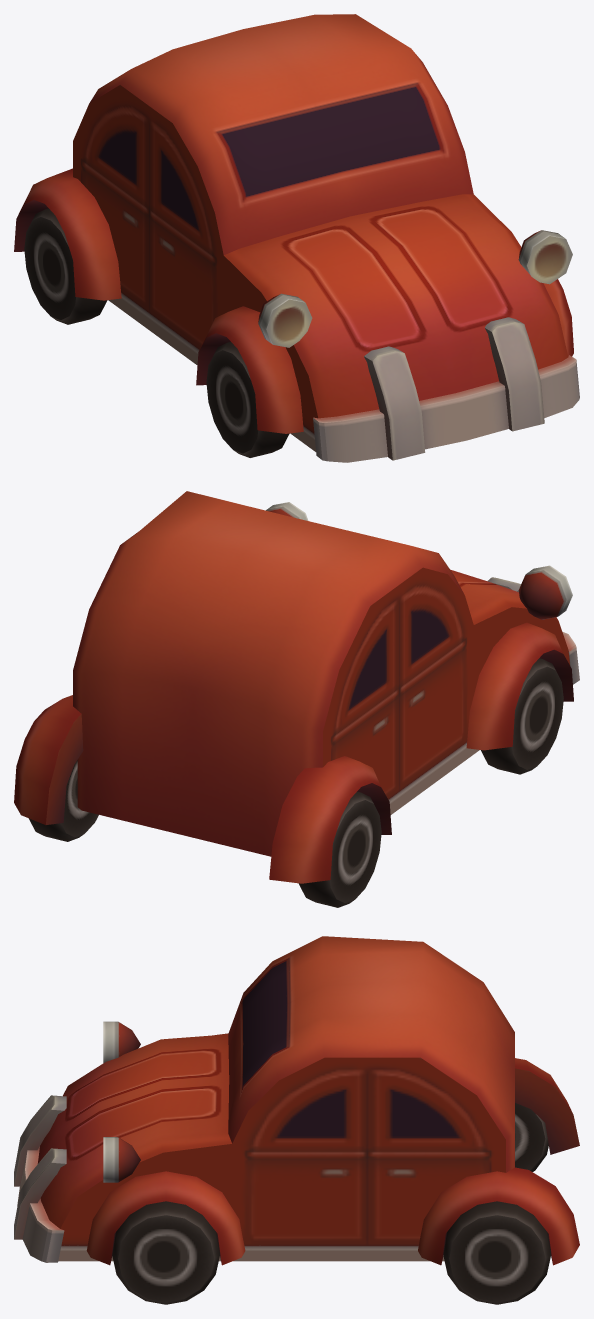
Rendered from scenes_around_toy01b.FBX.
The picture shows the model from 3 angles, top to bottom: view 1: azimuth 30°, elevation 25°; view 2: azimuth 150°, elevation 25°; view 3: azimuth 270°, elevation 25°; orthographic projection. The views are drawn at different scales.
Parts seen in each view (by area): view 1: scenes_around_toy01b; view 2: scenes_around_toy01b; view 3: scenes_around_toy01b.
Boxes of the visible parts, left/top/right/bottom form: scenes_around_toy01b: left=14, top=14, right=579, bottom=462; scenes_around_toy01b: left=14, top=491, right=579, bottom=907; scenes_around_toy01b: left=14, top=936, right=579, bottom=1304.
Size of the model in its own units: 10339 by 8914 by 17610.
